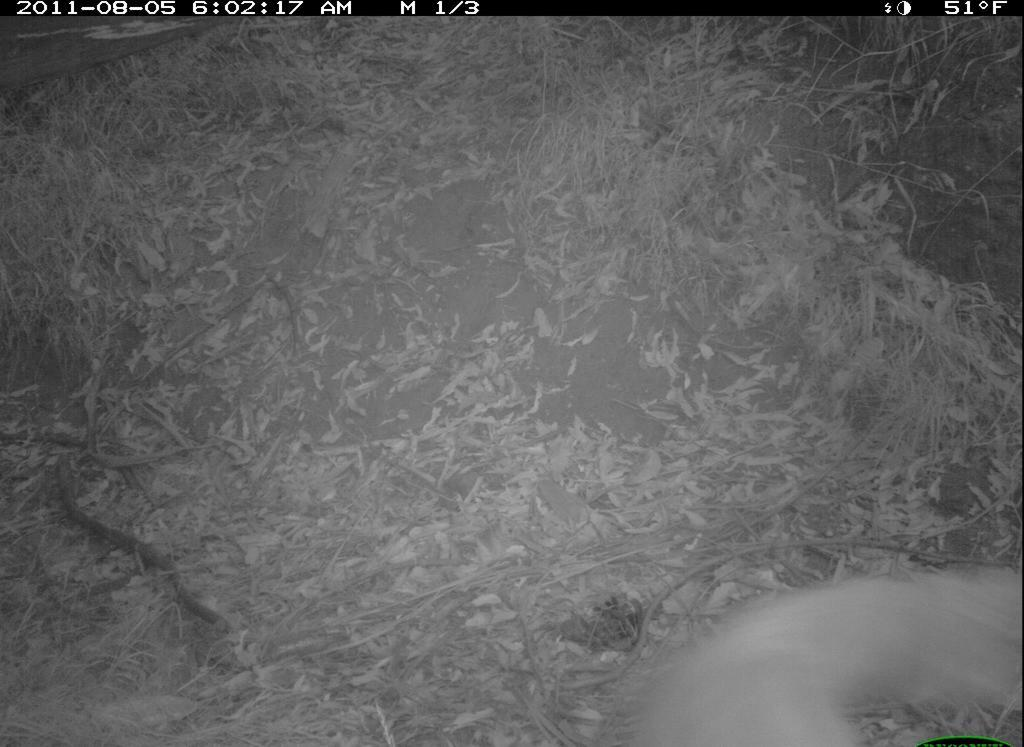dog: (585, 547, 1023, 744)
